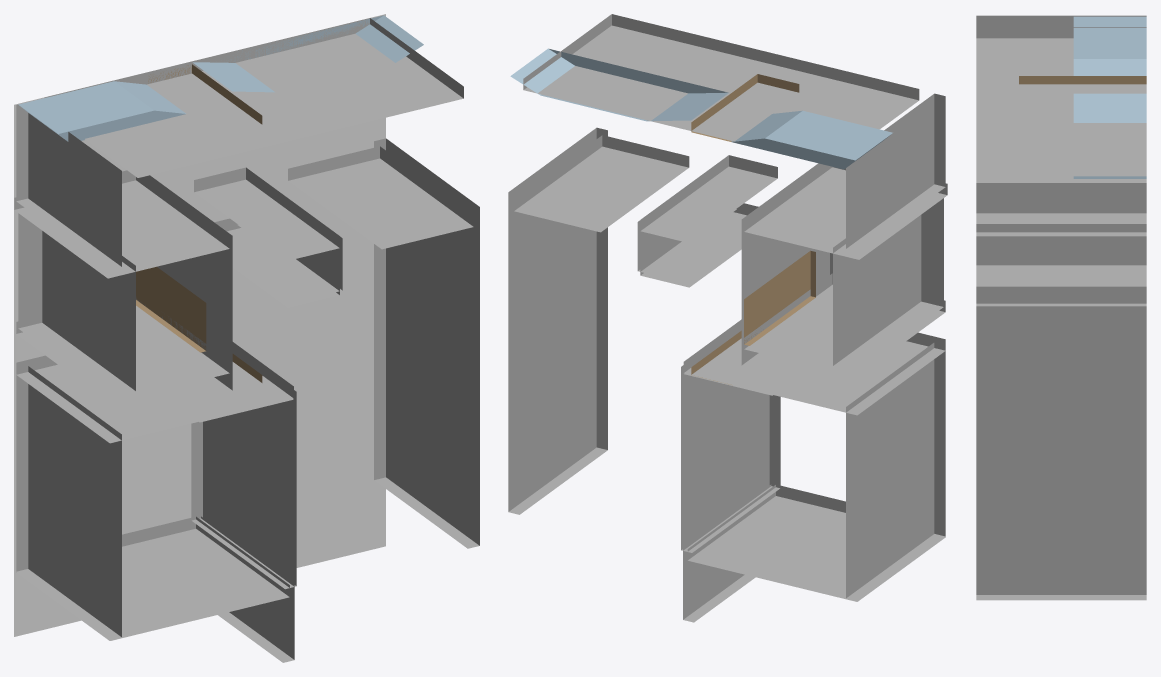
3 renders of one model, left to right at view 1: azimuth 30°, elevation 25°; view 2: azimuth 150°, elevation 25°; view 3: azimuth 270°, elevation 25°, orthographic. The views are drawn at different scales.
Visible parts, largest first — view 1: test, FloorPlan; view 2: test; view 3: test.
Boxes of the visible parts, x1,y1,x2,y2 form: test: (14, 15, 479, 662); FloorPlan: (14, 14, 385, 636); test: (508, 14, 947, 622); test: (976, 15, 1146, 600).
Size of the model in its own units: 6.41 by 8.77 by 2.8.
